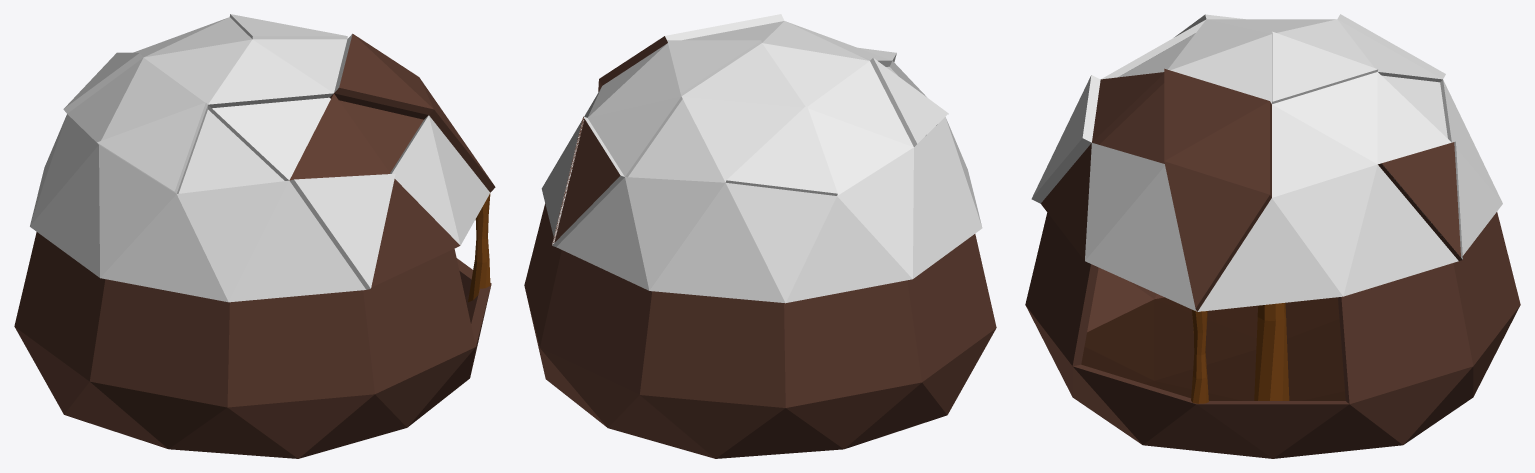
Rendered from snow_people_house_10.fbx.
3 views of the same model, side by side, from view 1: azimuth 30°, elevation 25°; view 2: azimuth 150°, elevation 25°; view 3: azimuth 270°, elevation 25° (orthographic). The views are drawn at different scales.
Parts seen in each view (by area): view 1: Icosphere, Cylinder.001; view 2: Icosphere; view 3: Icosphere, Cylinder, Cylinder.001.
Boxes of the visible parts, box(x1,y1,x2,y2) form: Icosphere: box(14, 14, 495, 458); Cylinder.001: box(468, 193, 490, 302); Icosphere: box(524, 14, 996, 458); Icosphere: box(1025, 14, 1520, 458); Cylinder: box(1254, 302, 1289, 400); Cylinder.001: box(1191, 309, 1208, 403).
Size of the model in its own units: 1123 by 988 by 1171.
